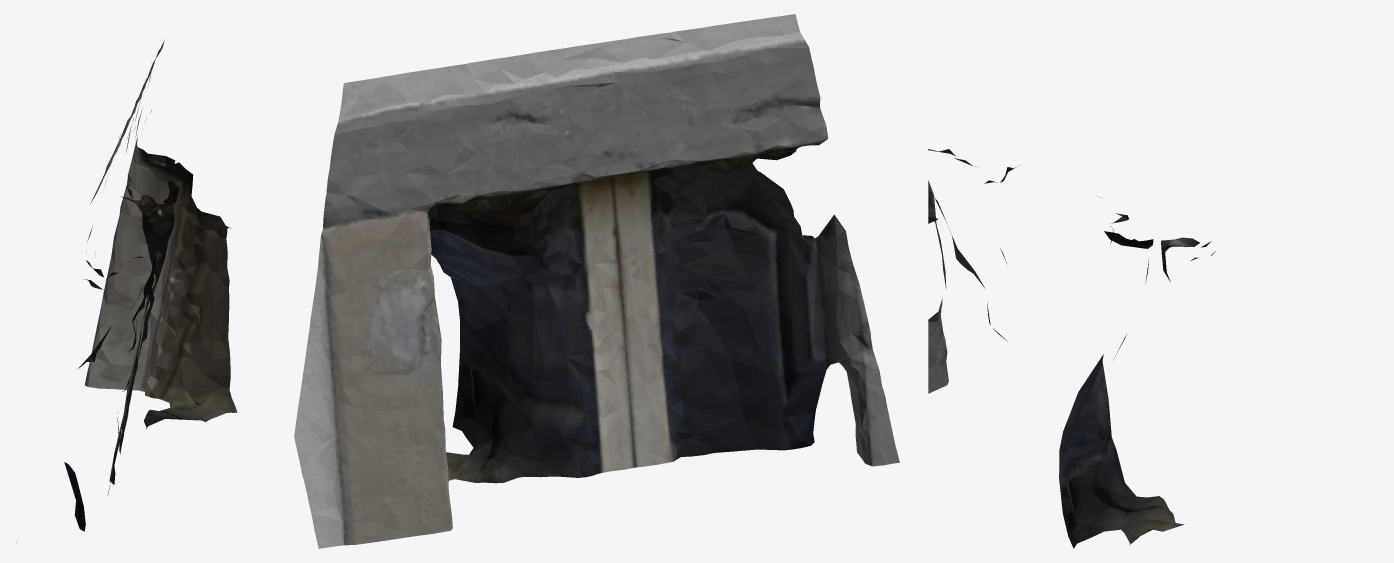
3 renders of one model, left to right at view 1: azimuth 30°, elevation 25°; view 2: azimuth 150°, elevation 25°; view 3: azimuth 270°, elevation 25°, orthographic. The views are drawn at different scales.
Size of the model in its own units: 0.7704 by 0.8374 by 0.8374.
4 materials, 4 textured.
